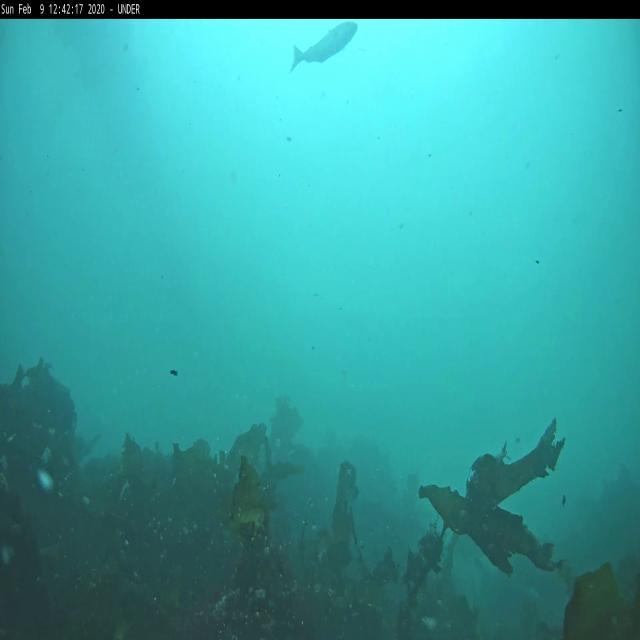fish: (291, 22, 357, 74)
